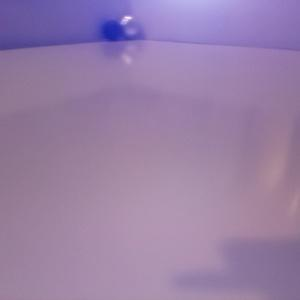alive_ball: (118, 14, 140, 39)
dead_ball: (102, 19, 123, 41)
